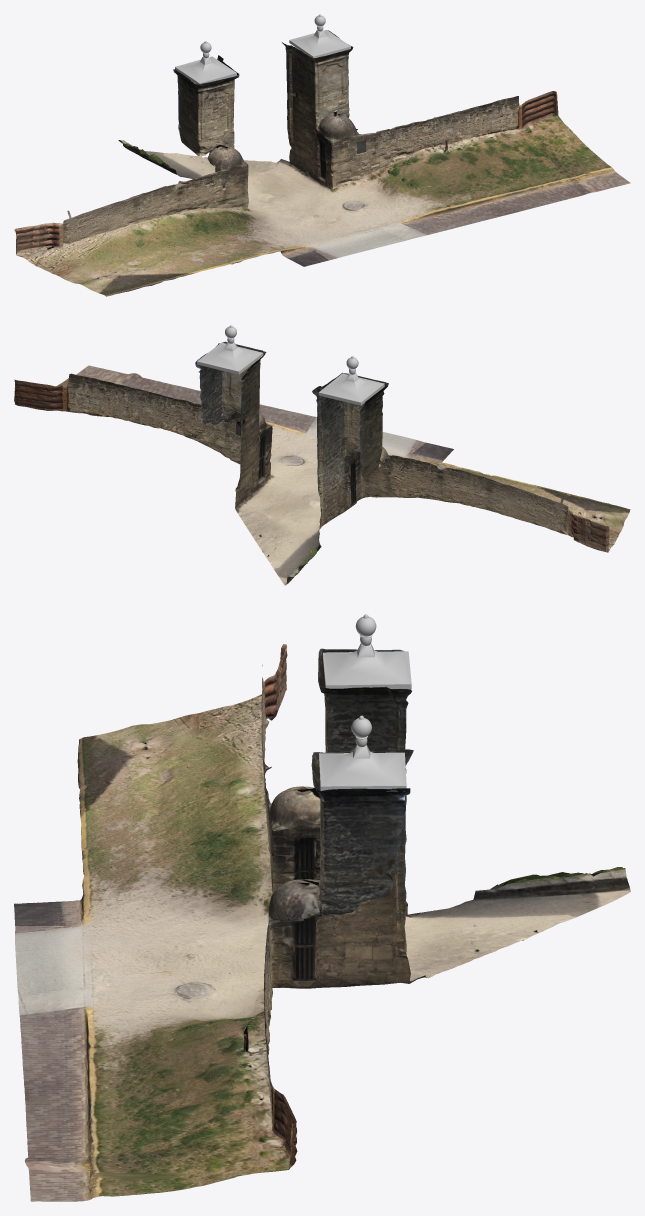
Rendered from ST_OCG.fbx.
3 renders of one model, top to bottom at view 1: azimuth 30°, elevation 25°; view 2: azimuth 150°, elevation 25°; view 3: azimuth 270°, elevation 25°, orthographic. The views are drawn at different scales.
Parts seen in each view (by area): view 1: ST_OCG_20k:Mesh, OCG_Top2, OCG_Top1; view 2: ST_OCG_20k:Mesh, OCG_Top1, OCG_Top2; view 3: ST_OCG_20k:Mesh, OCG_Top1, OCG_Top2.
Boxes of the visible parts, x1,y1,x2,y2 form: ST_OCG_20k:Mesh: (14, 30, 630, 296); OCG_Top2: (289, 14, 350, 58); OCG_Top1: (175, 41, 236, 84); ST_OCG_20k:Mesh: (14, 341, 630, 585); OCG_Top1: (318, 356, 384, 405); OCG_Top2: (197, 325, 263, 374); ST_OCG_20k:Mesh: (14, 644, 630, 1201); OCG_Top1: (323, 614, 411, 689); OCG_Top2: (319, 715, 406, 791).
Bounding box in the file's own units: 74.81 × 20.6 × 39.69.
